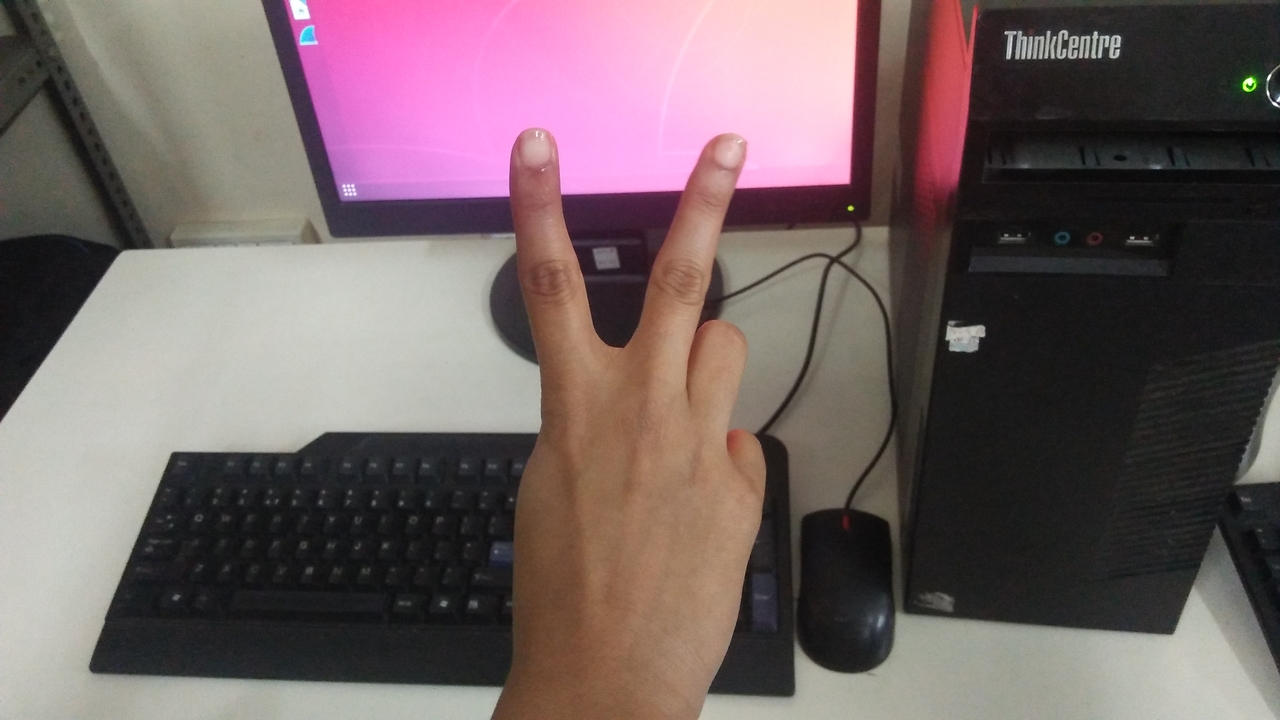fingertip: (506, 124, 562, 176), (694, 128, 754, 176)
